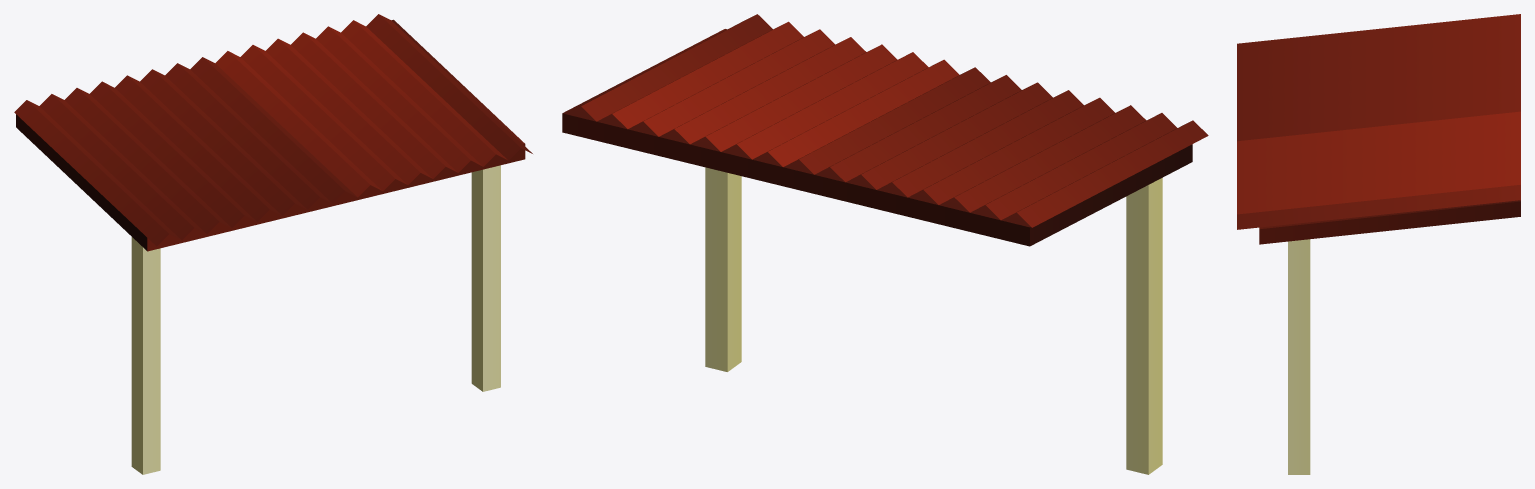
File: SM_Front_Porch_Roof.fbx
The picture shows the model from 3 angles, left to right: view 1: azimuth 30°, elevation 25°; view 2: azimuth 150°, elevation 25°; view 3: azimuth 270°, elevation 25°; orthographic projection. The views are drawn at different scales.
Visible parts, largest first — view 1: Front_Porch_Roof_mash; view 2: Front_Porch_Roof_mash; view 3: Front_Porch_Roof_mash.
Part boxes in pixels (x1,y1,x2,y2): Front_Porch_Roof_mash: (14,14,532,474); Front_Porch_Roof_mash: (562,14,1208,474); Front_Porch_Roof_mash: (1237,14,1520,474).
Size of the model in its own units: 4.24 by 3.09 by 2.76.
